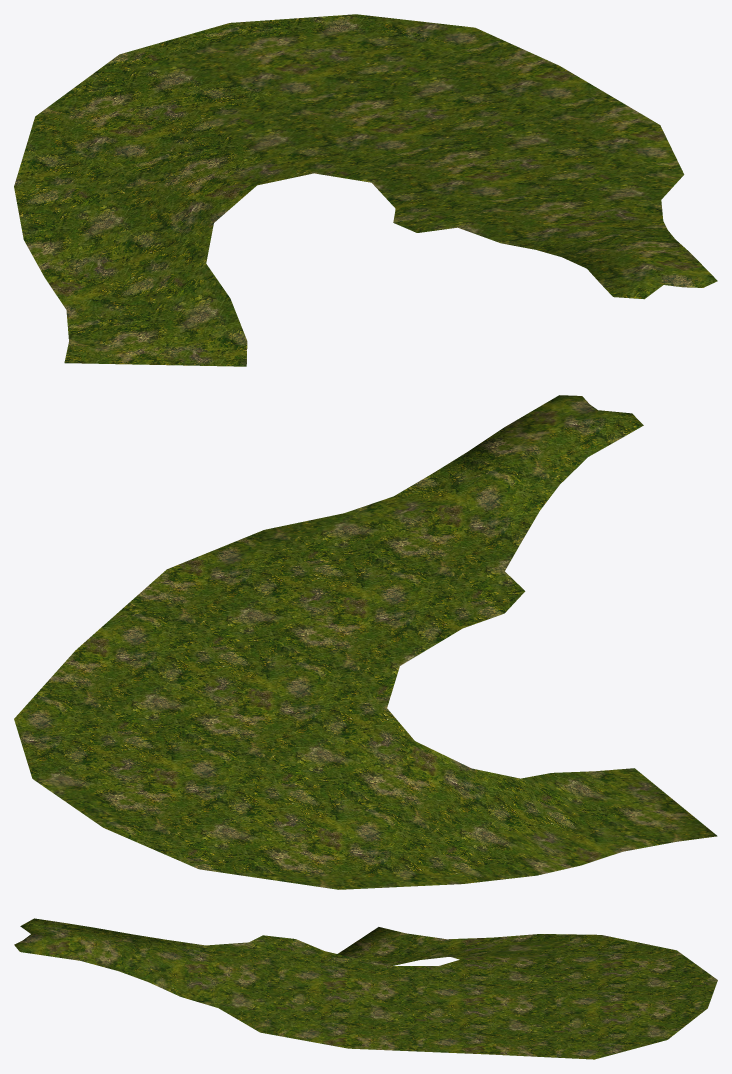
File: OVERHILL_A_01_WALL7.fbx
The picture shows the model from 3 angles, top to bottom: view 1: azimuth 30°, elevation 25°; view 2: azimuth 150°, elevation 25°; view 3: azimuth 270°, elevation 25°; orthographic projection. The views are drawn at different scales.
Parts seen in each view (by area): view 1: OVERHILL_A_01_WALL7; view 2: OVERHILL_A_01_WALL7; view 3: OVERHILL_A_01_WALL7.
Part boxes in pixels (box(x1,y1,x2,y2)): OVERHILL_A_01_WALL7: box(14, 14, 717, 366); OVERHILL_A_01_WALL7: box(14, 395, 717, 889); OVERHILL_A_01_WALL7: box(14, 918, 717, 1059).
Bounding box in the file's own units: 69668 × 19380 × 101681.
1 material, 1 textured.
